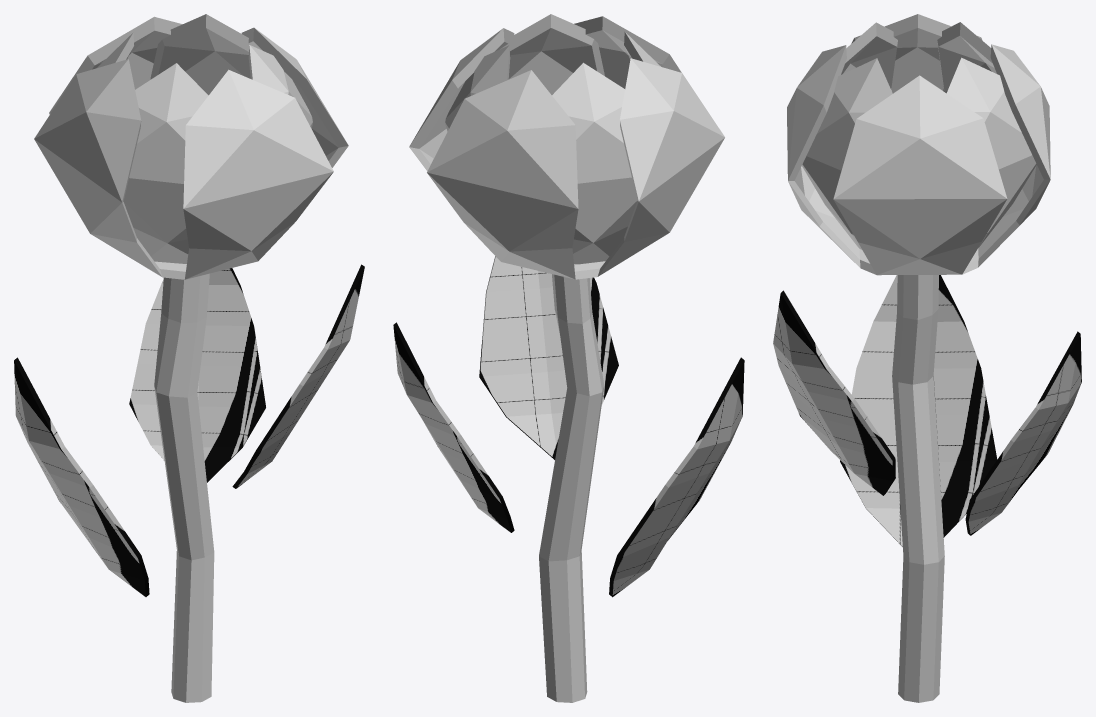
The model's file is Flowers.fbx.
3 renders of one model, left to right at view 1: azimuth 30°, elevation 25°; view 2: azimuth 150°, elevation 25°; view 3: azimuth 270°, elevation 25°, orthographic.
Visible parts, largest first — view 1: Petals, Stem, Inner Petals, Leaf, Leaf.001, Leaf.002; view 2: Petals, Stem, Inner Petals, Leaf.002, Leaf.001, Leaf; view 3: Petals, Stem, Leaf.001, Inner Petals, Leaf.002, Leaf.
Boxes of the visible parts, x1=… form: Petals: x1=34, y1=16, x2=348, y2=279; Stem: x1=154, y1=273, x2=214, y2=702; Inner Petals: x1=97, y1=14, x2=312, y2=263; Leaf: x1=129, y1=268, x2=265, y2=482; Leaf.001: x1=14, y1=357, x2=149, y2=596; Leaf.002: x1=232, y1=264, x2=364, y2=488; Petals: x1=409, y1=16, x2=724, y2=279; Stem: x1=539, y1=274, x2=604, y2=702; Inner Petals: x1=445, y1=14, x2=660, y2=264; Leaf.002: x1=479, y1=256, x2=618, y2=459; Leaf.001: x1=609, y1=357, x2=744, y2=597; Leaf: x1=393, y1=322, x2=514, y2=532; Petals: x1=787, y1=14, x2=1050, y2=275; Stem: x1=892, y1=275, x2=944, y2=702; Leaf.001: x1=840, y1=275, x2=997, y2=546; Inner Petals: x1=802, y1=22, x2=1036, y2=249; Leaf.002: x1=773, y1=290, x2=895, y2=495; Leaf: x1=965, y1=331, x2=1081, y2=535.
Bounding box in the file's own units: 0.1837 × 0.3919 × 0.1676.
